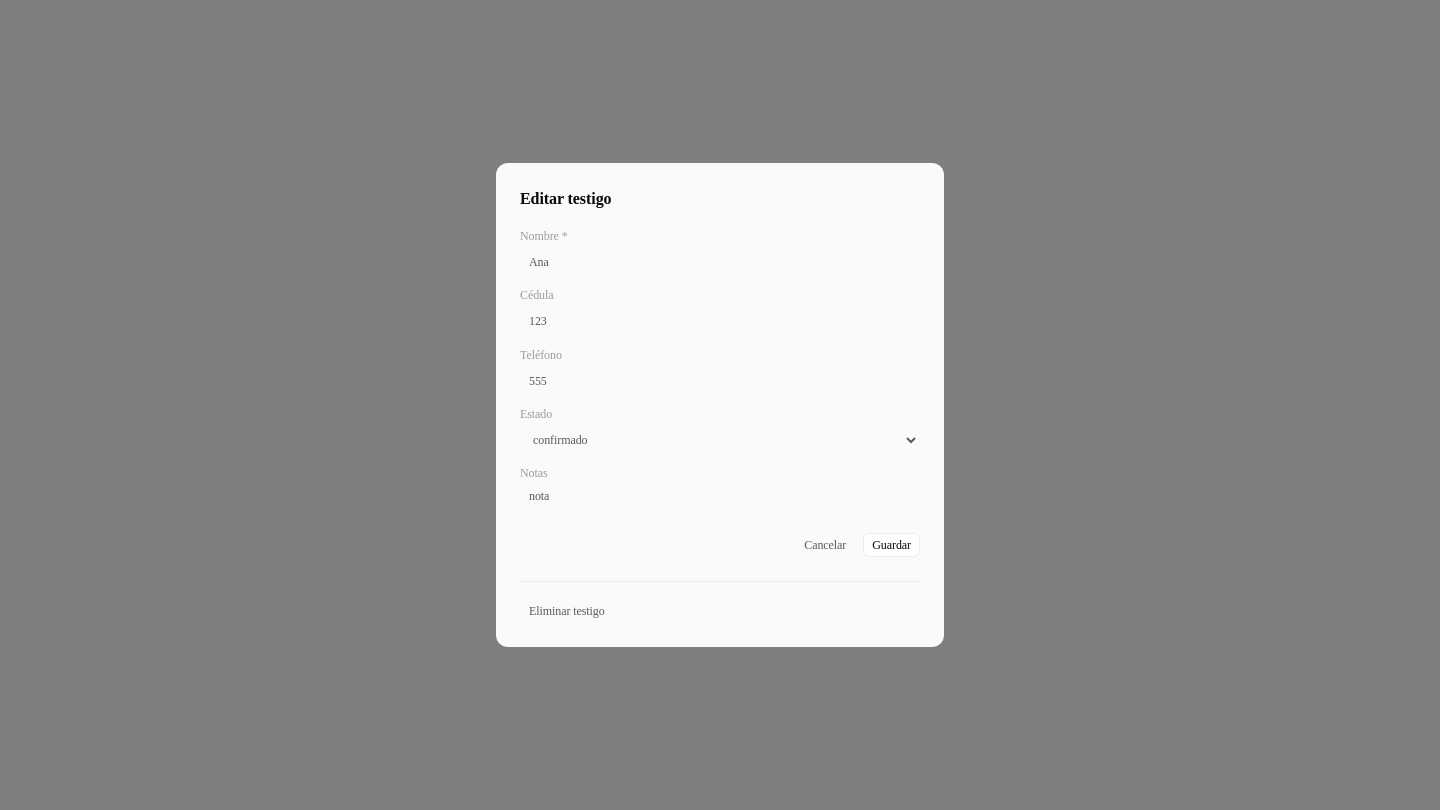
Test: EditTestigoModal › shows delete confirmation on button click
This screenshot has width=1440, height=810.
What coordinates should you click on to do the following:
click the button "Eliminar testigo"
I would click on:
 (567, 611)
Its box is x1=520 y1=599 x2=614 y2=623.
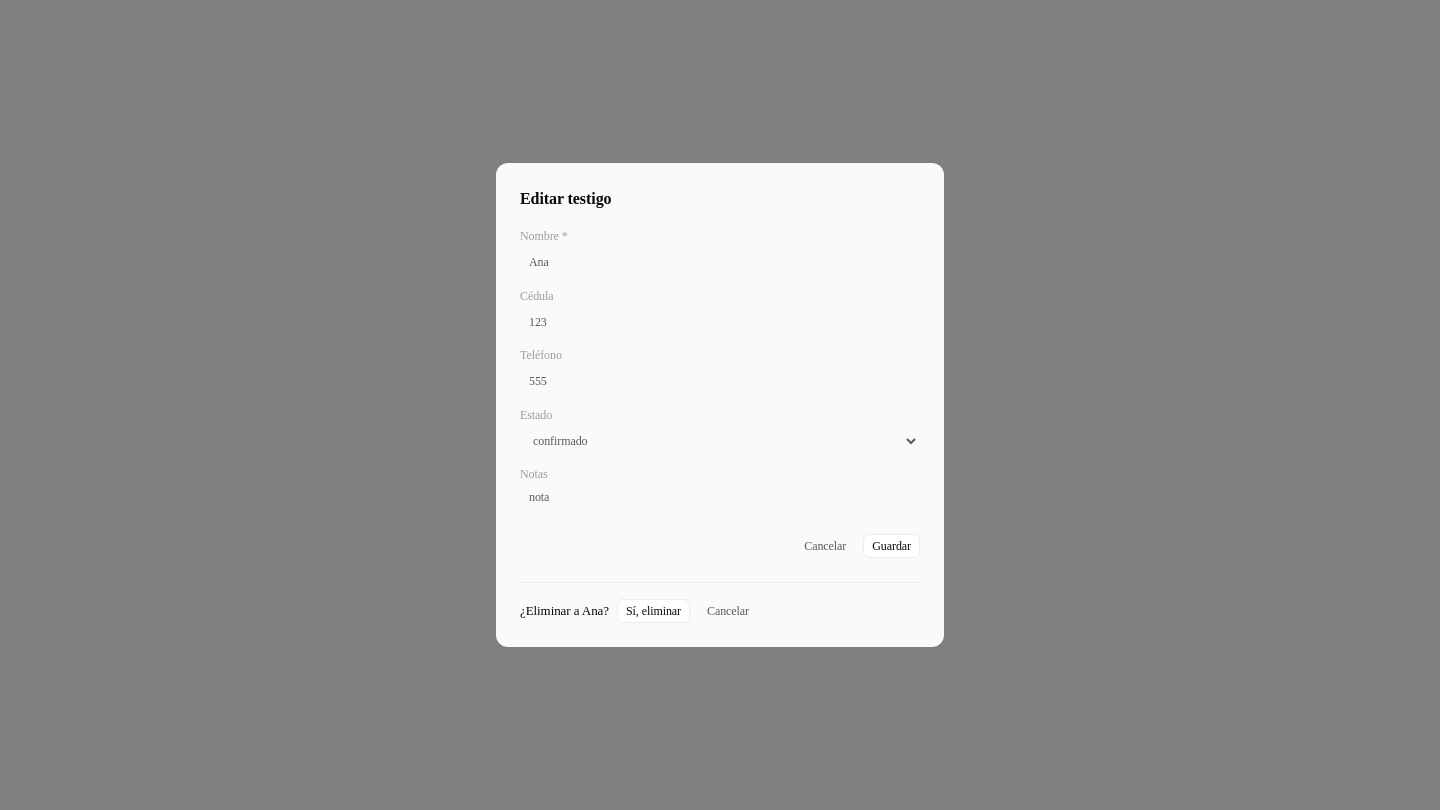
Now the text "¿Eliminar a Ana?" is shown, box x1=520 y1=601 x2=609 y2=620
